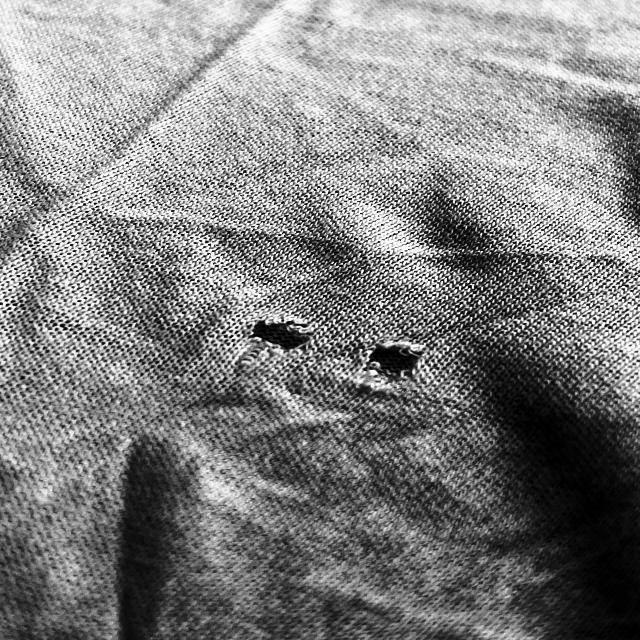Hole: (358, 334, 434, 390), (244, 305, 314, 358)
